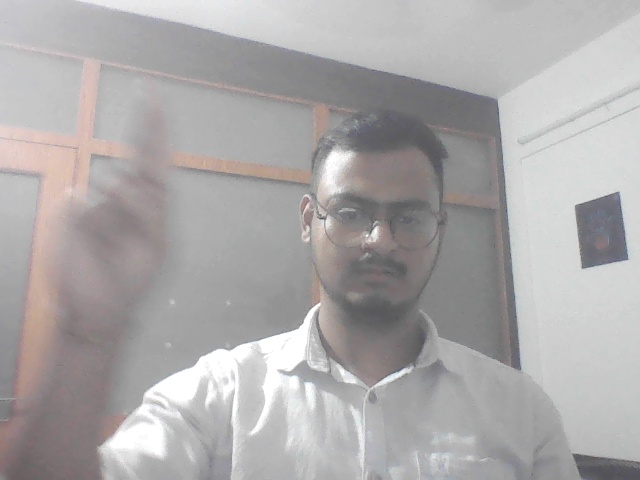GoodLuck: (36, 89, 196, 335)
